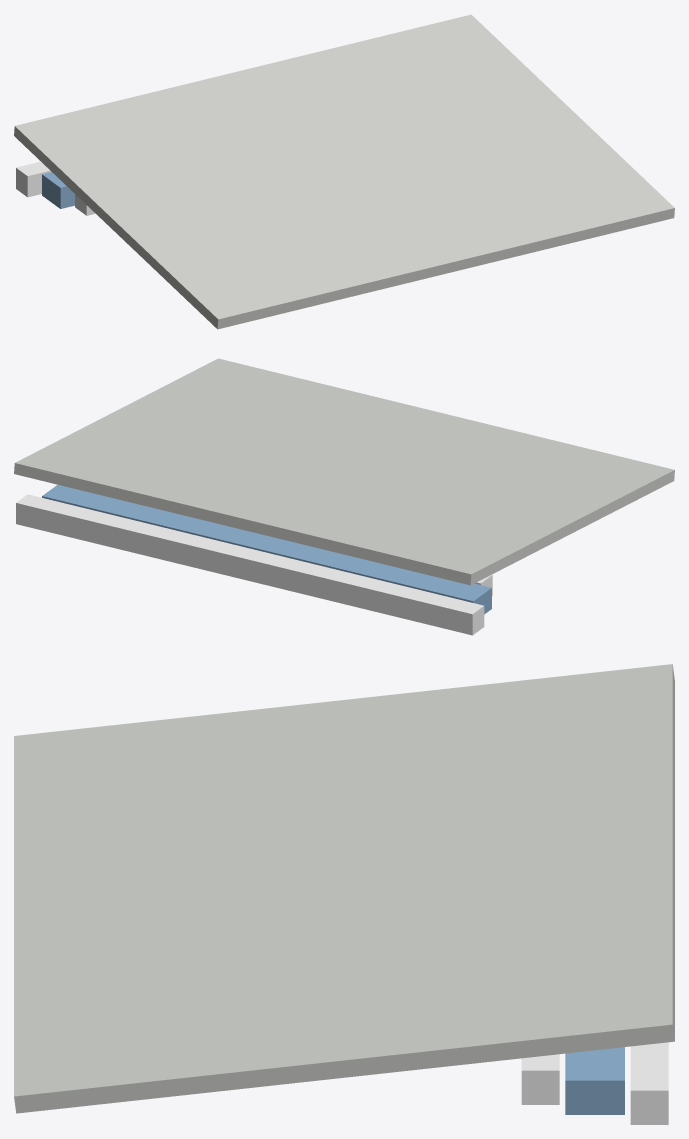
File: MOD_AWNING_COASTAL_CAFE_001_LOD_MAP.glb
The picture shows the model from 3 angles, top to bottom: view 1: azimuth 30°, elevation 25°; view 2: azimuth 150°, elevation 25°; view 3: azimuth 270°, elevation 25°; orthographic projection. The views are drawn at different scales.
Visible parts, largest first — view 1: MOD_AWNING_COASTAL_CAFE_001_DEEP_SEATING_AWNING_MAP_CANOPY, MOD_AWNING_COASTAL_CAFE_001_SHALLOW_CAFE_AWNING_MAP_CANOPY, MOD_AWNING_COASTAL_CAFE_001_STRIPED_COASTAL_AWNING_MAP_CANOP, MOD_AWNING_COASTAL_CAFE_001_CORNER_RETURN_AWNING_MAP_CANOPY, MOD_AWNING_COASTAL_CAFE_001_DEEP_SEATING_AWNING_MAP_FASCIA, MOD_AWNING_COASTAL_CAFE_001_STRIPED_COASTAL_AWNING_MAP_FASCI; view 2: MOD_AWNING_COASTAL_CAFE_001_DEEP_SEATING_AWNING_MAP_CANOPY, MOD_AWNING_COASTAL_CAFE_001_SHALLOW_CAFE_AWNING_MAP_CANOPY, MOD_AWNING_COASTAL_CAFE_001_CORNER_RETURN_AWNING_MAP_CANOPY, MOD_AWNING_COASTAL_CAFE_001_DEEP_SEATING_AWNING_MAP_FASCIA, MOD_AWNING_COASTAL_CAFE_001_CORNER_RETURN_AWNING_MAP_FASCIA, MOD_AWNING_COASTAL_CAFE_001_STRIPED_COASTAL_AWNING_MAP_FASCI, MOD_AWNING_COASTAL_CAFE_001_STRIPED_COASTAL_AWNING_MAP_CANOP; view 3: MOD_AWNING_COASTAL_CAFE_001_CORNER_RETURN_AWNING_MAP_CANOPY, MOD_AWNING_COASTAL_CAFE_001_DEEP_SEATING_AWNING_MAP_CANOPY, MOD_AWNING_COASTAL_CAFE_001_SHALLOW_CAFE_AWNING_MAP_CANOPY, MOD_AWNING_COASTAL_CAFE_001_STRIPED_COASTAL_AWNING_MAP_CANOP, MOD_AWNING_COASTAL_CAFE_001_DEEP_SEATING_AWNING_MAP_FASCIA, MOD_AWNING_COASTAL_CAFE_001_CORNER_RETURN_AWNING_MAP_FASCIA, MOD_AWNING_COASTAL_CAFE_001_STRIPED_COASTAL_AWNING_MAP_FASCI, MOD_AWNING_COASTAL_CAFE_001_SHALLOW_CAFE_AWNING_MAP_FASCIA.
Boxes of the visible parts, x1,y1,x2,y2 form: MOD_AWNING_COASTAL_CAFE_001_DEEP_SEATING_AWNING_MAP_CANOPY: (14, 14, 674, 329); MOD_AWNING_COASTAL_CAFE_001_SHALLOW_CAFE_AWNING_MAP_CANOPY: (77, 55, 599, 277); MOD_AWNING_COASTAL_CAFE_001_STRIPED_COASTAL_AWNING_MAP_CANOP: (49, 39, 639, 289); MOD_AWNING_COASTAL_CAFE_001_CORNER_RETURN_AWNING_MAP_CANOPY: (58, 31, 647, 297); MOD_AWNING_COASTAL_CAFE_001_DEEP_SEATING_AWNING_MAP_FASCIA: (16, 161, 51, 197); MOD_AWNING_COASTAL_CAFE_001_STRIPED_COASTAL_AWNING_MAP_FASCI: (49, 180, 74, 208); MOD_AWNING_COASTAL_CAFE_001_DEEP_SEATING_AWNING_MAP_CANOPY: (14, 358, 674, 585); MOD_AWNING_COASTAL_CAFE_001_SHALLOW_CAFE_AWNING_MAP_CANOPY: (76, 387, 612, 502); MOD_AWNING_COASTAL_CAFE_001_CORNER_RETURN_AWNING_MAP_CANOPY: (47, 369, 573, 563); MOD_AWNING_COASTAL_CAFE_001_DEEP_SEATING_AWNING_MAP_FASCIA: (16, 494, 484, 635); MOD_AWNING_COASTAL_CAFE_001_CORNER_RETURN_AWNING_MAP_FASCIA: (42, 491, 484, 614); MOD_AWNING_COASTAL_CAFE_001_STRIPED_COASTAL_AWNING_MAP_FASCI: (49, 485, 491, 613); MOD_AWNING_COASTAL_CAFE_001_STRIPED_COASTAL_AWNING_MAP_CANOP: (92, 374, 555, 558); MOD_AWNING_COASTAL_CAFE_001_CORNER_RETURN_AWNING_MAP_CANOPY: (61, 679, 625, 1080); MOD_AWNING_COASTAL_CAFE_001_DEEP_SEATING_AWNING_MAP_CANOPY: (14, 664, 674, 1113); MOD_AWNING_COASTAL_CAFE_001_SHALLOW_CAFE_AWNING_MAP_CANOPY: (131, 697, 554, 1063); MOD_AWNING_COASTAL_CAFE_001_STRIPED_COASTAL_AWNING_MAP_CANOP: (84, 687, 601, 1077); MOD_AWNING_COASTAL_CAFE_001_DEEP_SEATING_AWNING_MAP_FASCIA: (630, 1042, 668, 1124); MOD_AWNING_COASTAL_CAFE_001_CORNER_RETURN_AWNING_MAP_FASCIA: (587, 1047, 624, 1114); MOD_AWNING_COASTAL_CAFE_001_STRIPED_COASTAL_AWNING_MAP_FASCI: (565, 1051, 602, 1114); MOD_AWNING_COASTAL_CAFE_001_SHALLOW_CAFE_AWNING_MAP_FASCIA: (521, 1054, 559, 1104).
Size of the model in its own units: 3.6 by 0.4673 by 2.79.
